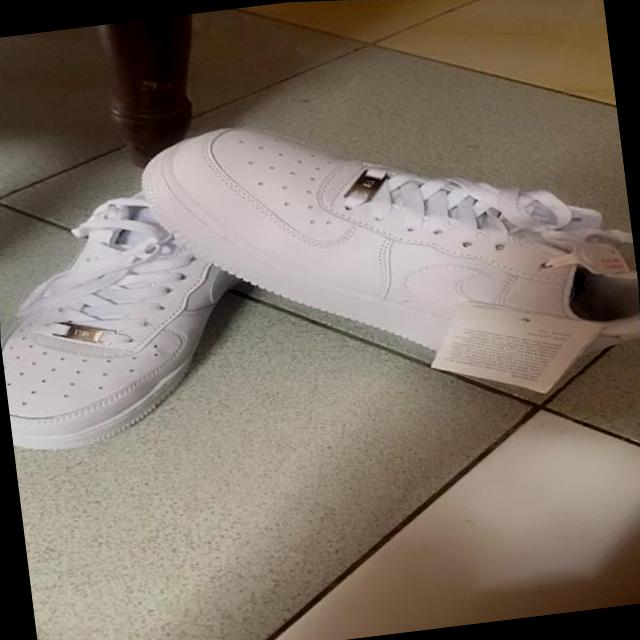nike_fake_airforce: (111, 70, 640, 462), (0, 166, 313, 476)
